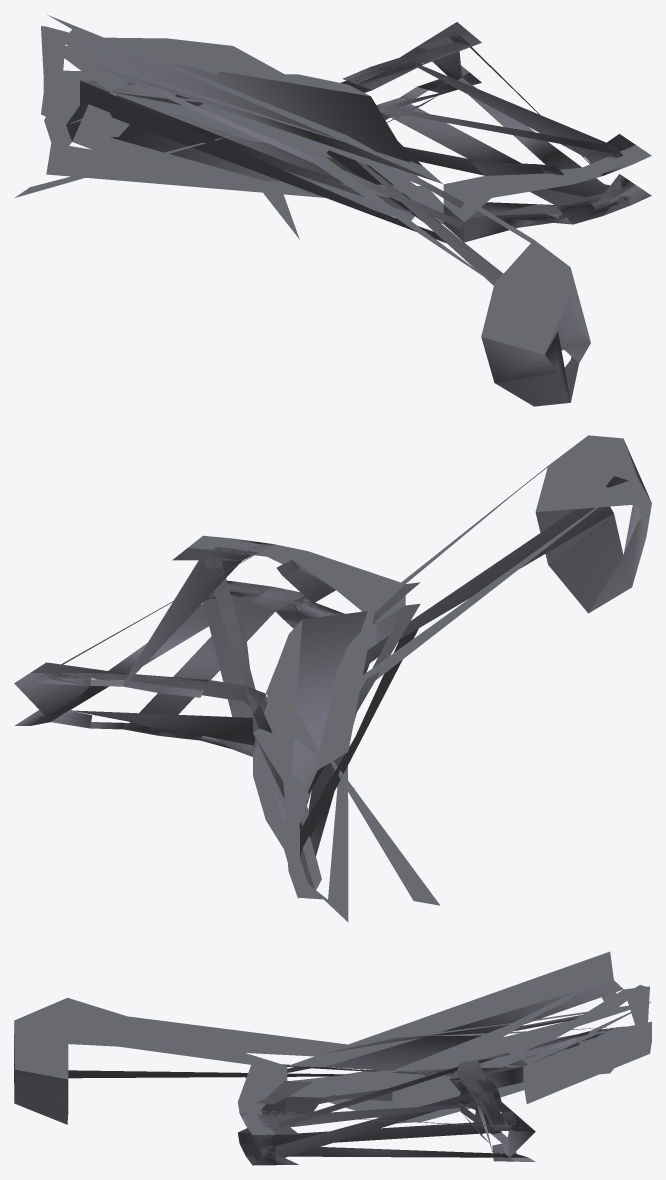
The picture shows the model from 3 angles, top to bottom: view 1: azimuth 30°, elevation 25°; view 2: azimuth 150°, elevation 25°; view 3: azimuth 270°, elevation 25°; orthographic projection. The views are drawn at different scales.
Parts seen in each view (by area): view 1: Object_2; view 2: Object_2; view 3: Object_2.
Boxes of the visible parts, left/top/right/bottom form: Object_2: left=15, top=14, right=651, bottom=406; Object_2: left=14, top=435, right=651, bottom=921; Object_2: left=14, top=951, right=651, bottom=1165.
Size of the model in its own units: 5.58 by 2.07 by 9.41.
